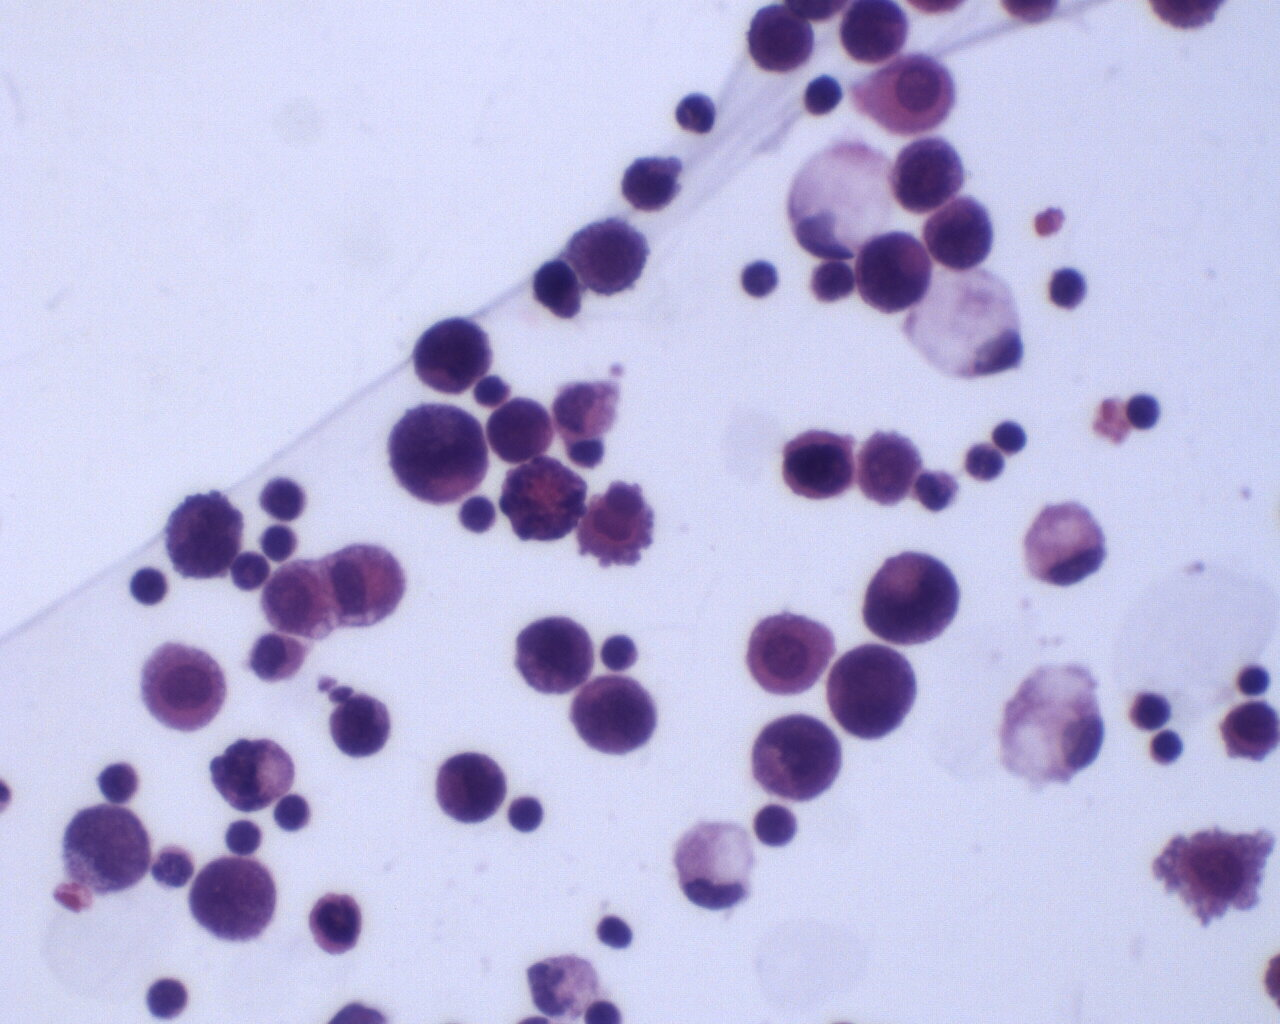ab: (388, 400, 489, 507), (863, 548, 962, 648), (59, 799, 154, 900), (827, 639, 916, 737), (749, 709, 843, 798), (565, 214, 659, 301), (189, 857, 279, 946), (571, 675, 661, 758), (164, 488, 242, 583), (854, 230, 938, 315), (511, 613, 596, 696), (884, 135, 965, 218), (413, 315, 494, 393), (779, 425, 856, 502), (436, 747, 507, 825), (854, 425, 920, 508), (486, 393, 556, 466), (927, 195, 991, 272), (748, 2, 816, 72), (836, 1, 909, 63), (328, 694, 396, 759), (619, 153, 686, 213), (306, 890, 366, 958), (1220, 698, 1280, 763)
histo: (788, 129, 901, 257), (909, 261, 1026, 382), (998, 658, 1107, 788), (673, 816, 758, 915), (1024, 497, 1109, 592)
lymph: (258, 473, 311, 522), (1046, 264, 1089, 313), (1229, 658, 1278, 700), (802, 71, 844, 118), (739, 258, 783, 302), (127, 563, 168, 608), (505, 791, 546, 833), (274, 791, 315, 834), (990, 415, 1031, 456), (1147, 725, 1186, 769), (1127, 387, 1162, 430)
meso: (135, 639, 227, 735), (860, 50, 960, 137), (744, 609, 830, 695)
neutro: (674, 90, 720, 136)
